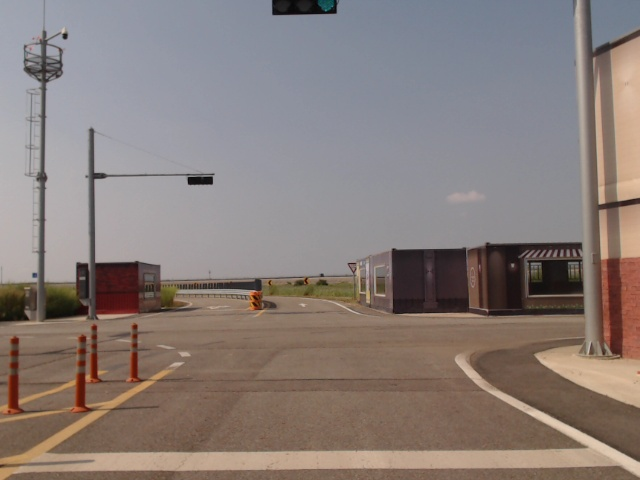green_3: (272, 0, 338, 15)
